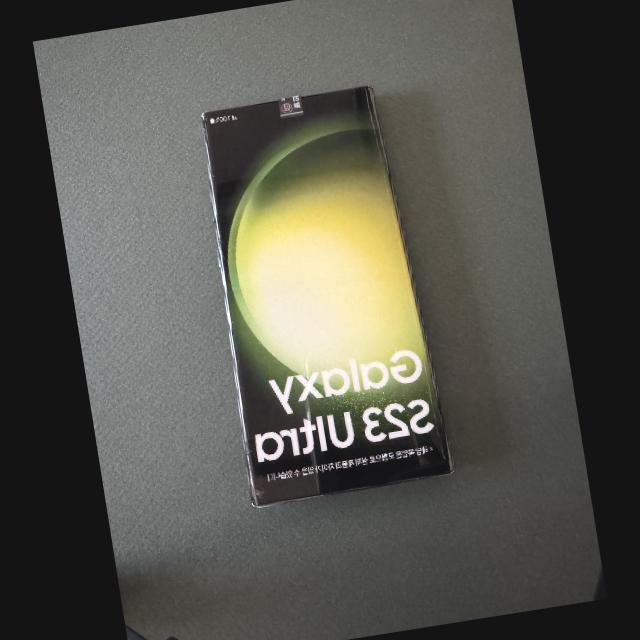phone: (203, 87, 453, 507)
sticker: (278, 96, 305, 119)
